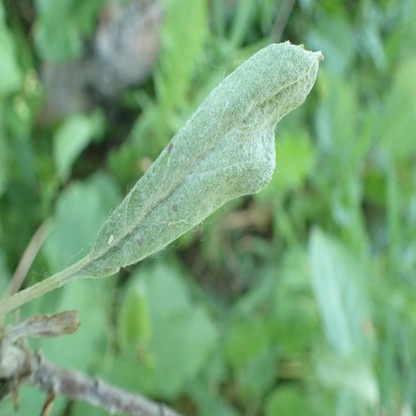powder: (85, 41, 324, 276)
